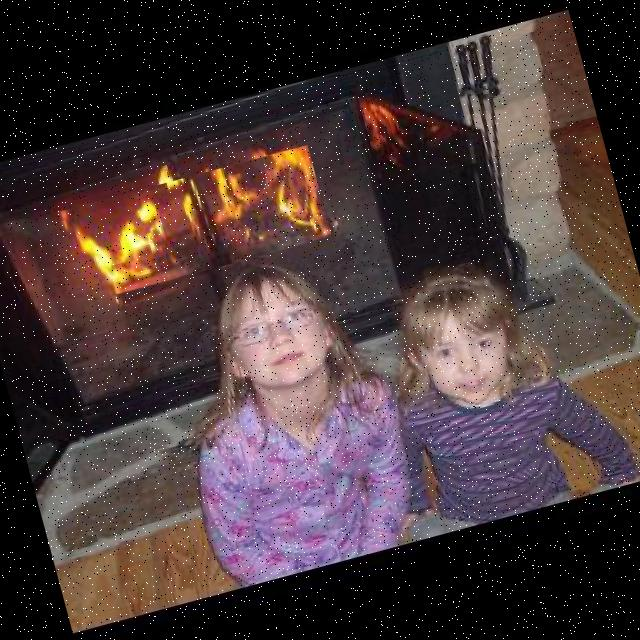fire: (38, 144, 332, 308)
